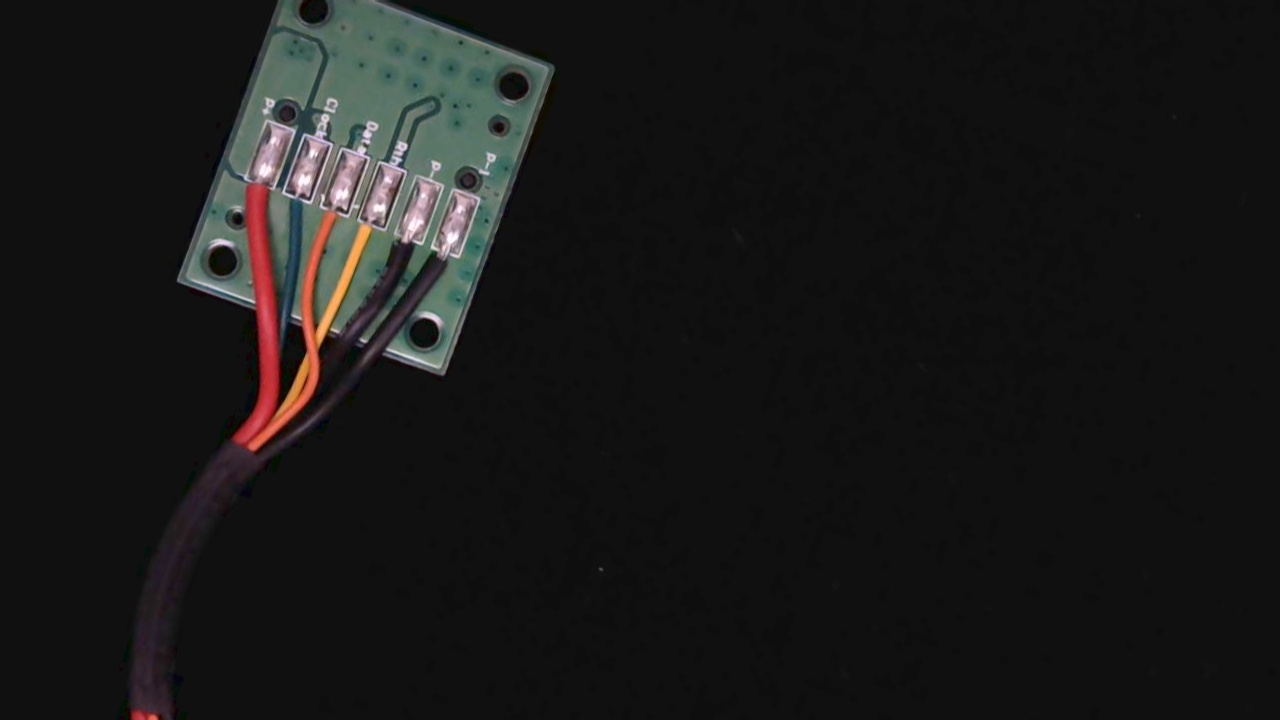Black: (375, 220, 423, 287)
Black1: (414, 234, 463, 299)
Green: (267, 179, 318, 240)
Orange: (305, 192, 353, 257)
Red: (226, 165, 278, 231)
Yellow: (337, 206, 389, 276)
